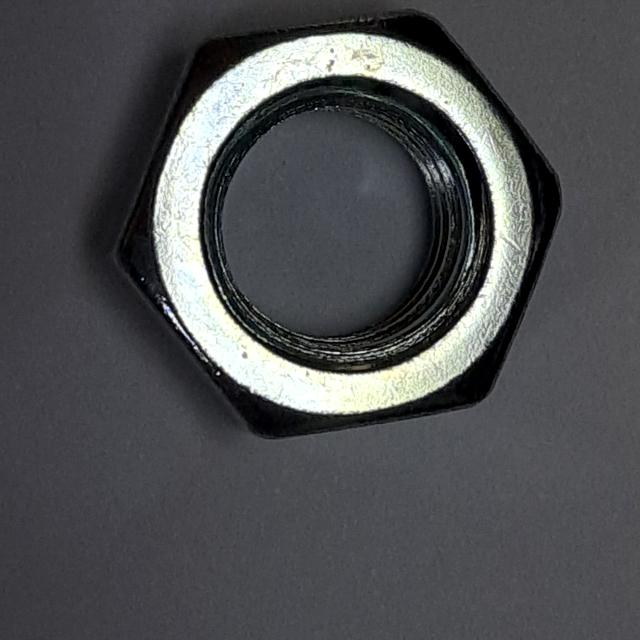Excellent: (89, 1, 574, 456)
